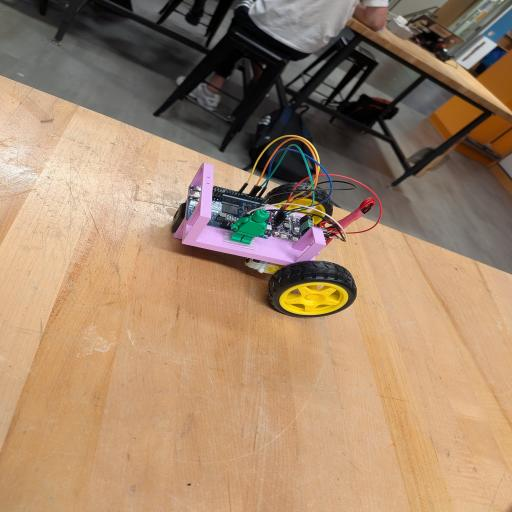Minifig: (230, 210, 269, 244)
